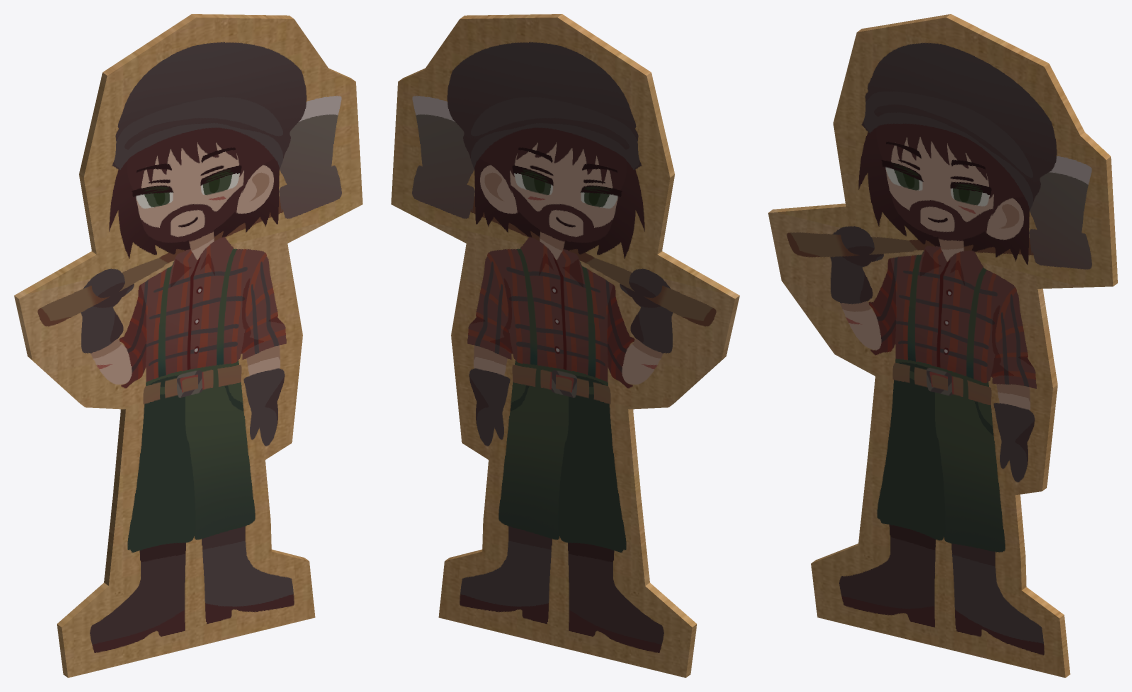
The model's file is NPC_Base_3_Lumberjack.glb.
The picture shows the model from 3 angles, left to right: view 1: azimuth 30°, elevation 25°; view 2: azimuth 150°, elevation 25°; view 3: azimuth 330°, elevation 25°; orthographic projection.
Parts seen in each view (by area): view 1: NPC_Base_3_Lumberjack; view 2: NPC_Base_3_Lumberjack; view 3: NPC_Base_3_Lumberjack.
Boxes of the visible parts, box(x1,y1,x2,y2) form: NPC_Base_3_Lumberjack: box(14, 14, 362, 677); NPC_Base_3_Lumberjack: box(391, 14, 739, 677); NPC_Base_3_Lumberjack: box(768, 14, 1117, 677).
Size of the model in its own units: 1.25 by 2.19 by 0.03.
Materials: 1 (1 with a texture image).
